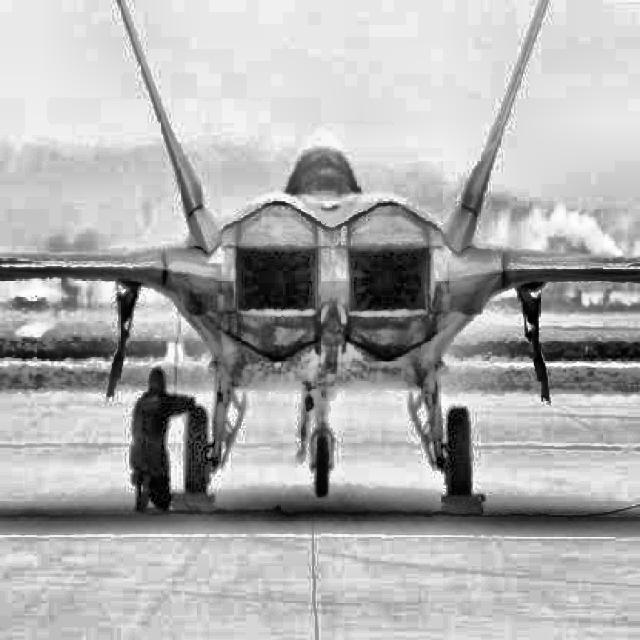F22: (0, 0, 640, 498)
